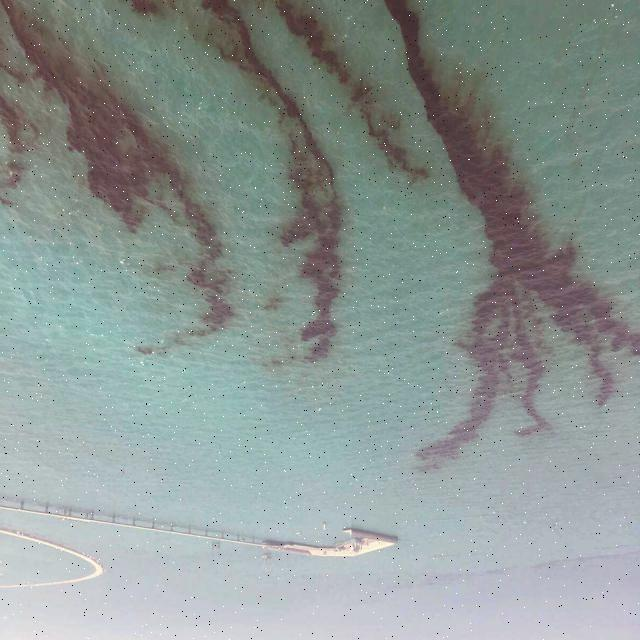oil: (3, 0, 640, 473)
